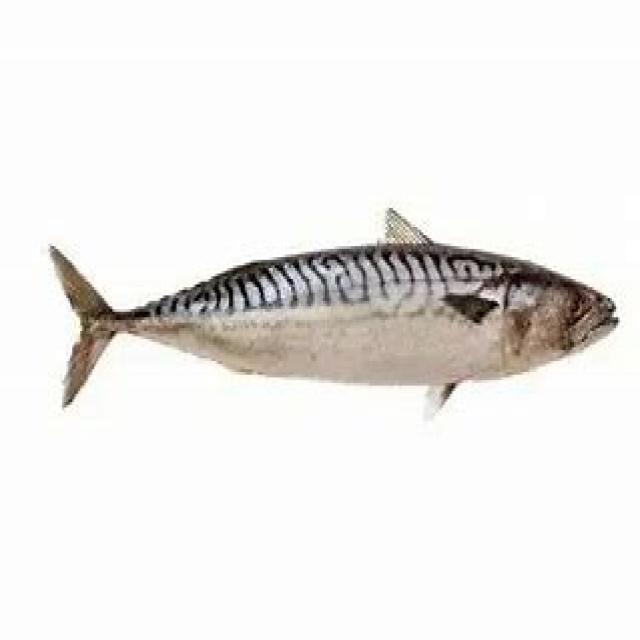seer: (52, 206, 620, 421)
